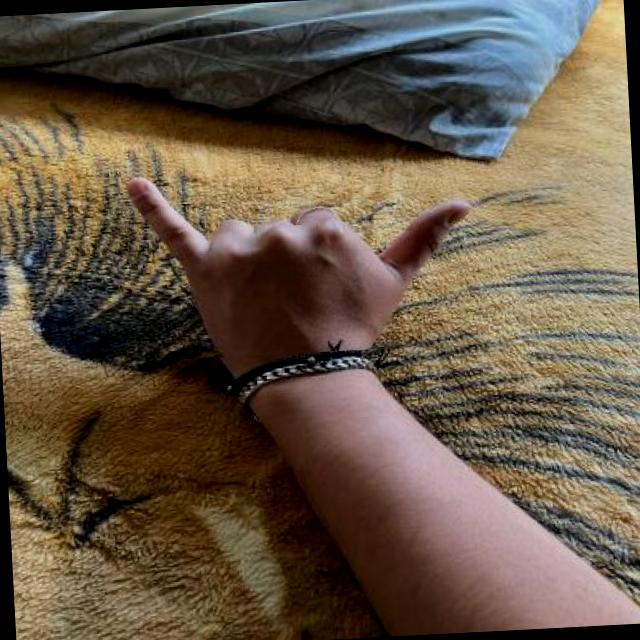Y: (120, 144, 490, 362)
